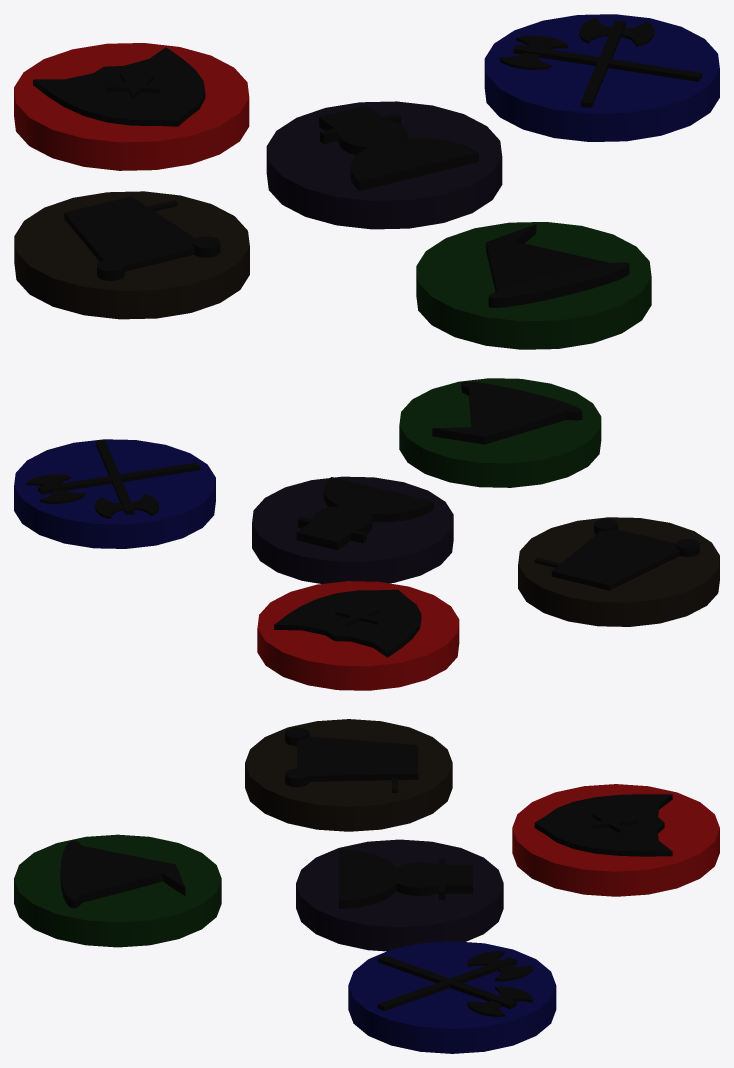
Rendered from PrintFlat.obj.
3 views of the same model, one above another, from view 1: azimuth 30°, elevation 25°; view 2: azimuth 150°, elevation 25°; view 3: azimuth 270°, elevation 25° (orthographic). The views are drawn at different scales.
Visible parts, largest first — view 1: WarriorBack WarriorGroup, WizardGroup DipToken3, DipGroup DipToken, SeigeToken SeigeGroup, ClericGroup ClericBack, pCylinder11 ClericGroup, SeigeGroup SeigeIcon, DiplomatIcon DipGroup, WizardIcon WizardGroup, WarriorGroup WarriorIcon; view 2: WarriorBack WarriorGroup, WizardGroup DipToken3, SeigeToken SeigeGroup, DipGroup DipToken, ClericGroup ClericBack, pCylinder11 ClericGroup, SeigeGroup SeigeIcon, DiplomatIcon DipGroup, WizardIcon WizardGroup, WarriorGroup WarriorIcon; view 3: WarriorBack WarriorGroup, WizardGroup DipToken3, SeigeToken SeigeGroup, DipGroup DipToken, ClericGroup ClericBack, pCylinder11 ClericGroup, SeigeGroup SeigeIcon, DiplomatIcon DipGroup, WizardIcon WizardGroup, WarriorGroup WarriorIcon.
Boxes of the visible parts, x1,y1,x2,y2 form: WarriorBack WarriorGroup: [484, 14, 719, 141]; WizardGroup DipToken3: [416, 222, 651, 349]; DipGroup DipToken: [266, 101, 502, 229]; SeigeToken SeigeGroup: [14, 191, 249, 319]; ClericGroup ClericBack: [14, 43, 249, 170]; pCylinder11 ClericGroup: [33, 47, 205, 126]; SeigeGroup SeigeIcon: [64, 196, 220, 280]; DiplomatIcon DipGroup: [319, 105, 478, 190]; WizardIcon WizardGroup: [486, 224, 629, 307]; WarriorGroup WarriorIcon: [499, 17, 702, 107]; WarriorBack WarriorGroup: [14, 439, 215, 548]; WizardGroup DipToken3: [399, 378, 601, 487]; SeigeToken SeigeGroup: [518, 517, 719, 626]; DipGroup DipToken: [252, 476, 453, 583]; ClericGroup ClericBack: [257, 581, 459, 690]; pCylinder11 ClericGroup: [274, 589, 421, 657]; SeigeGroup SeigeIcon: [534, 519, 699, 590]; DiplomatIcon DipGroup: [296, 477, 433, 550]; WizardIcon WizardGroup: [432, 381, 582, 444]; WarriorGroup WarriorIcon: [26, 440, 200, 518]; WarriorBack WarriorGroup: [348, 941, 556, 1053]; WizardGroup DipToken3: [14, 834, 221, 947]; SeigeToken SeigeGroup: [245, 719, 452, 831]; DipGroup DipToken: [296, 839, 503, 951]; ClericGroup ClericBack: [512, 784, 719, 896]; pCylinder11 ClericGroup: [534, 794, 672, 856]; SeigeGroup SeigeIcon: [285, 727, 418, 792]; DiplomatIcon DipGroup: [339, 849, 472, 908]; WizardIcon WizardGroup: [60, 840, 185, 908]; WarriorGroup WarriorIcon: [377, 951, 532, 1016].
Bounding box in the file's own units: 6.14 × 0.3037 × 5.83.
